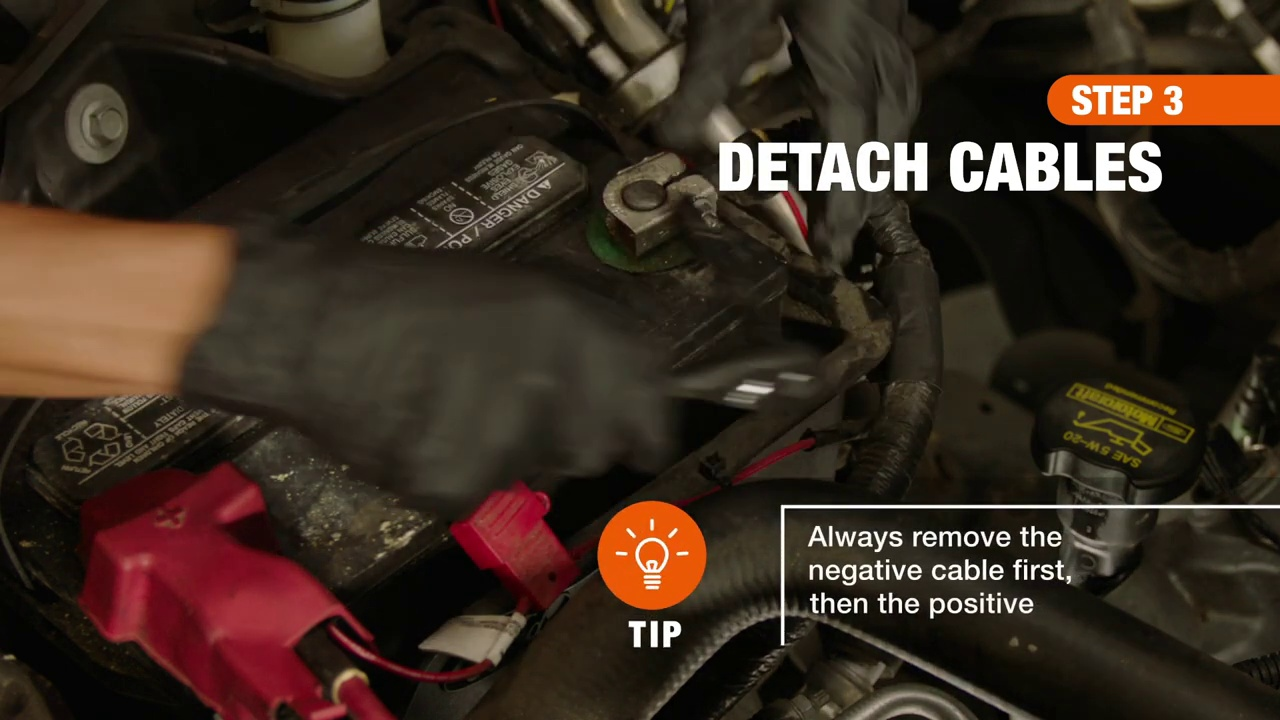battery: (39, 38, 806, 674)
neg_connected: (569, 129, 721, 255)
pos_connected: (73, 465, 310, 673)
